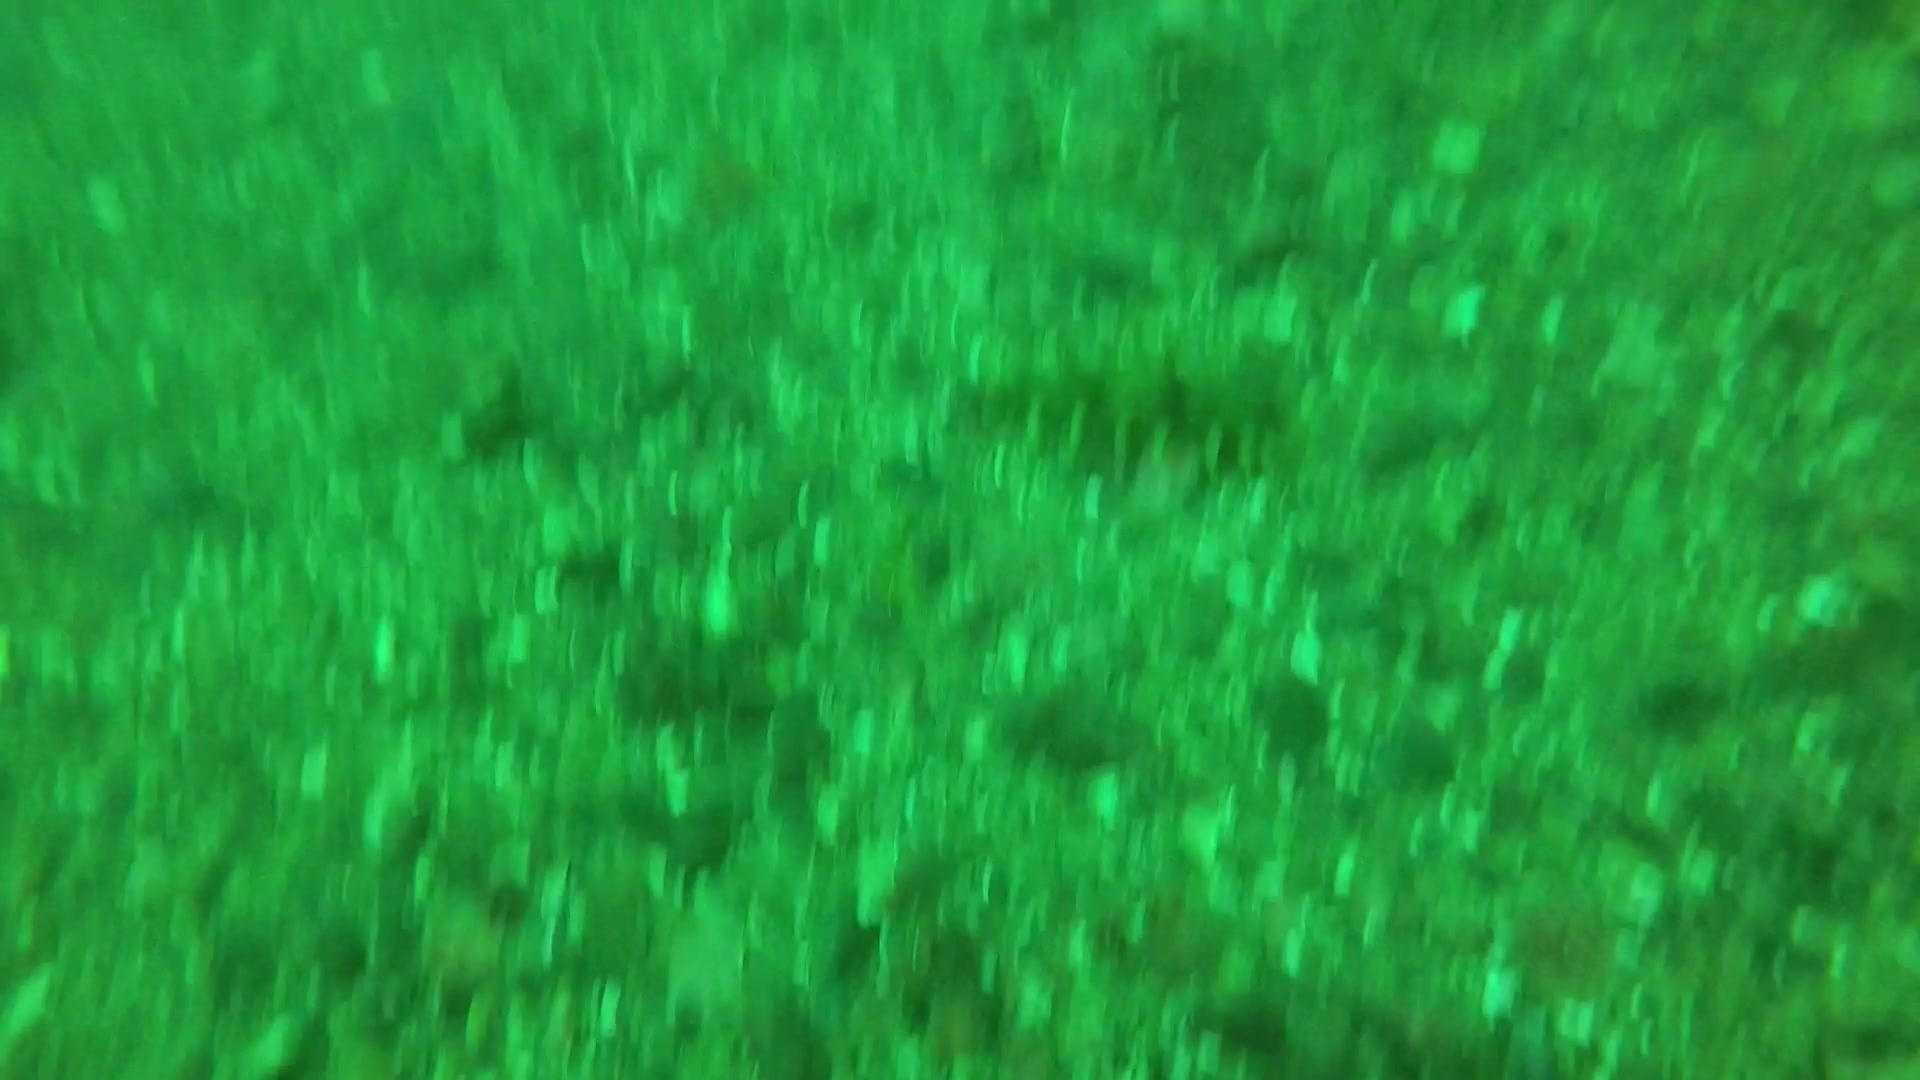holothurian: (956, 289, 1309, 475)
